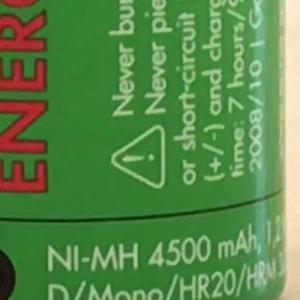keyword: (39, 236, 144, 279)
